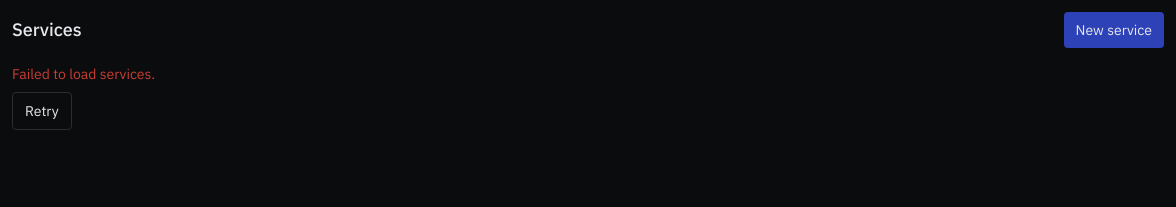
ServicesListPage › shows an error state and a retry action when the request fails
The width and height of the screenshot is (1176, 207).
Expected: the text "Failed to load services." is shown, [12,65,155,83]
Click the button "Retry" at coordinates (42, 111), box [12,92,72,130]
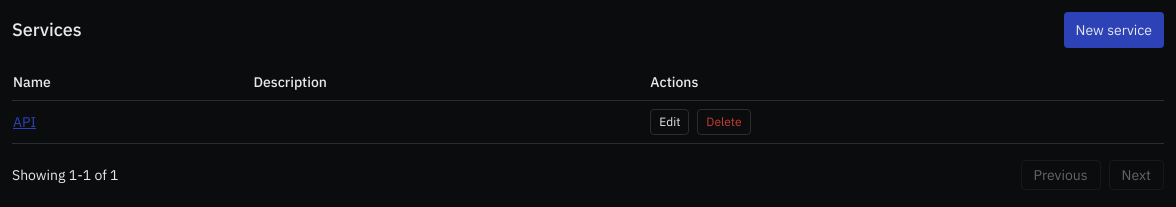
Result: the link "API" is shown at [13,113,36,131]
